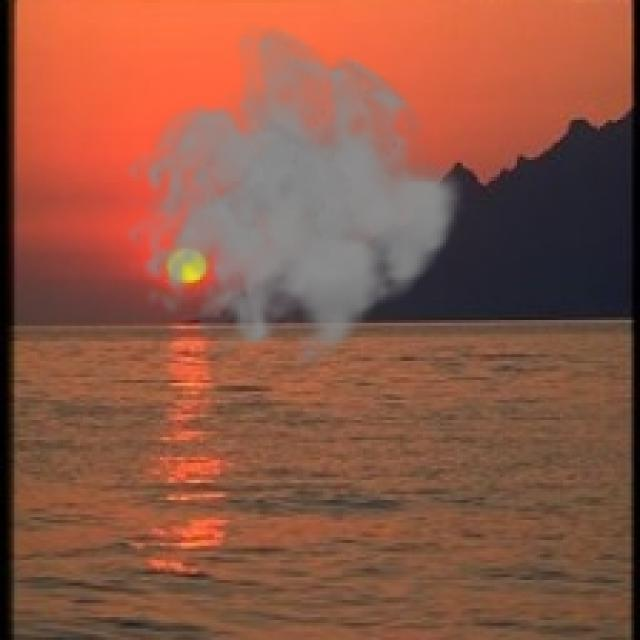Smoke: (123, 20, 466, 380)
